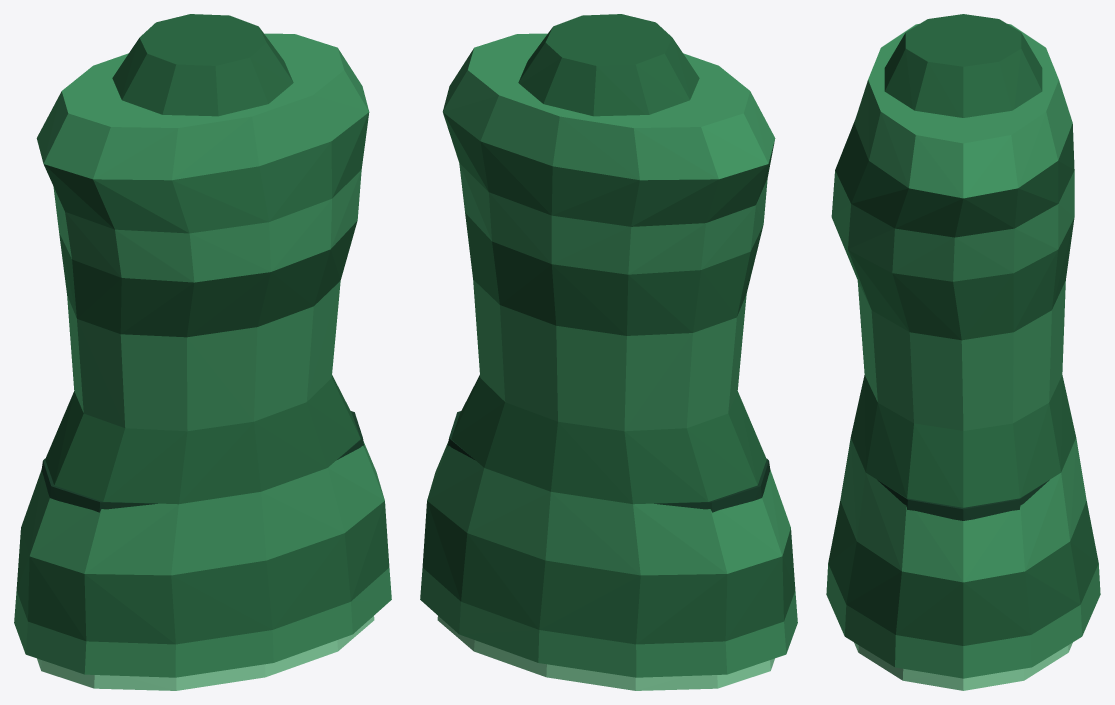
The model's file is gear_adamant_chainbody_torso_f.glb.
3 renders of one model, left to right at view 1: azimuth 30°, elevation 25°; view 2: azimuth 150°, elevation 25°; view 3: azimuth 270°, elevation 25°, orthographic. The views are drawn at different scales.
Visible parts, largest first — view 1: gear_adamant_chainbody_torso_f; view 2: gear_adamant_chainbody_torso_f; view 3: gear_adamant_chainbody_torso_f.
Part boxes in pixels (<box>): gear_adamant_chainbody_torso_f: <box>14,14,391,690</box>; gear_adamant_chainbody_torso_f: <box>420,14,797,690</box>; gear_adamant_chainbody_torso_f: <box>826,14,1100,690</box>.
Size of the model in its own units: 0.458 by 0.73 by 0.316.
